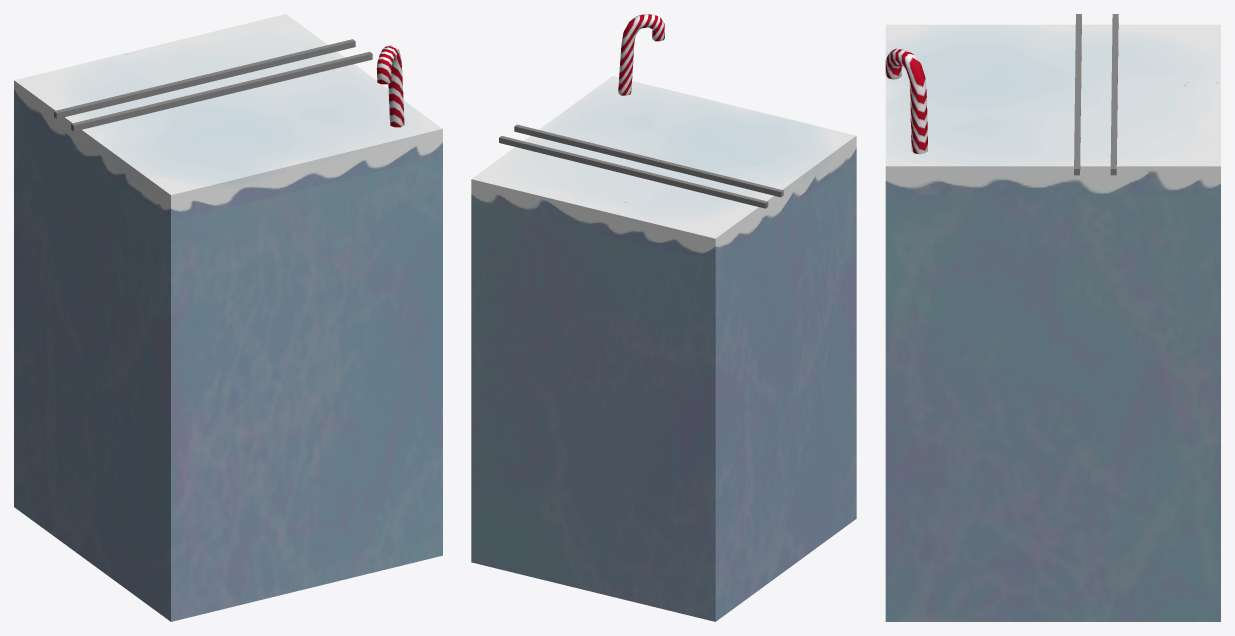
Rendered from Enmedio2Nieve.fbx.
The picture shows the model from 3 angles, left to right: view 1: azimuth 30°, elevation 25°; view 2: azimuth 150°, elevation 25°; view 3: azimuth 270°, elevation 25°; orthographic projection. The views are drawn at different scales.
Visible parts, largest first — view 1: Enmedio2Nieve, Cube.001, Cube.005, Cube.039; view 2: Enmedio2Nieve, Cube.005, Cube.001, Cube.039; view 3: Enmedio2Nieve, Cube.039, Cube.001, Cube.005.
Boxes of the visible parts, left/top/right/bottom form: Enmedio2Nieve: left=14, top=14, right=442, bottom=621; Cube.001: left=71, top=51, right=372, bottom=131; Cube.005: left=54, top=39, right=355, bottom=118; Cube.039: left=376, top=45, right=404, bottom=127; Enmedio2Nieve: left=471, top=76, right=856, bottom=621; Cube.005: left=499, top=136, right=768, bottom=208; Cube.001: left=514, top=124, right=783, bottom=197; Cube.039: left=618, top=14, right=664, bottom=95; Enmedio2Nieve: left=885, top=24, right=1220, bottom=621; Cube.039: left=885, top=48, right=927, bottom=154; Cube.001: left=1074, top=14, right=1081, bottom=175; Cube.005: left=1110, top=14, right=1118, bottom=175.
Bounding box in the file's own units: 1096 × 1803 × 1002.
